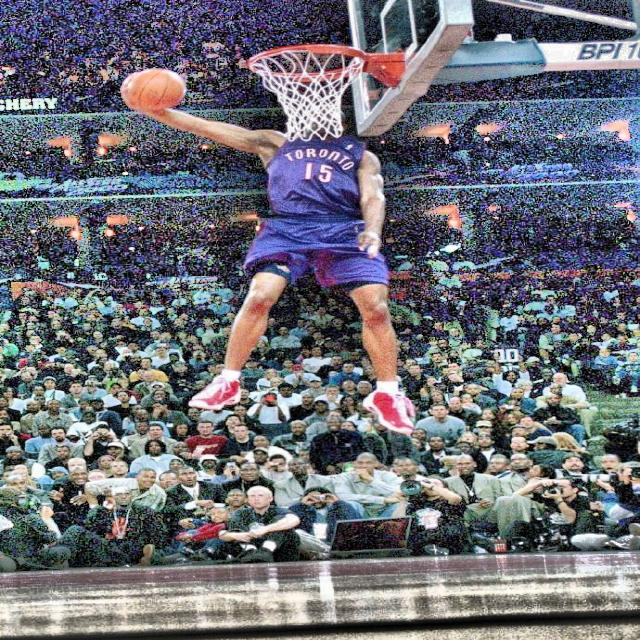board: (126, 68, 188, 112)
rim: (248, 44, 367, 139)
